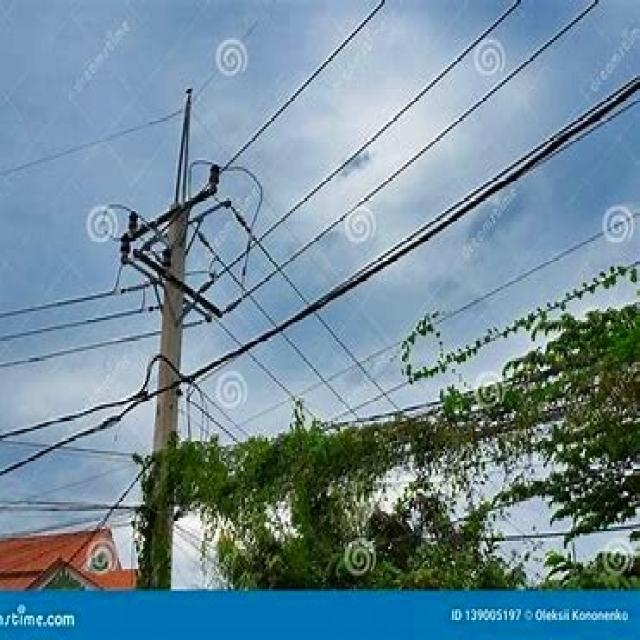critical vegetation: (160, 347, 640, 556)
